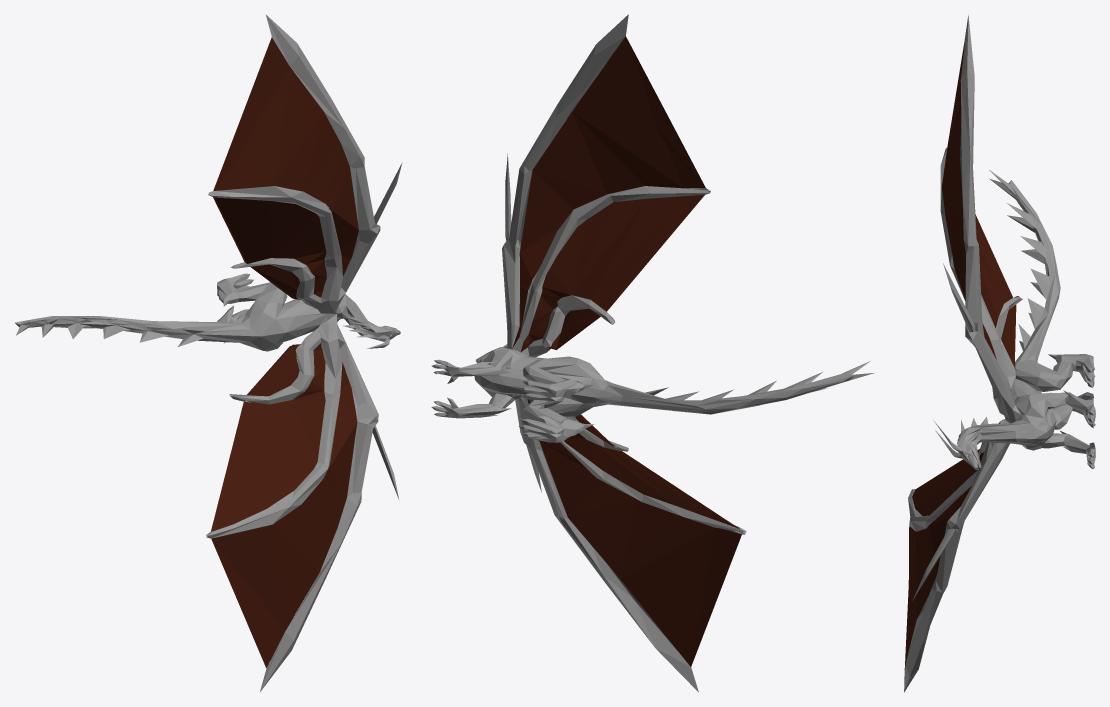
Rendered from Dragon_2.5_For_Animations_000479.obj.
3 views of the same model, side by side, from view 1: azimuth 30°, elevation 25°; view 2: azimuth 150°, elevation 25°; view 3: azimuth 270°, elevation 25° (orthographic). The views are drawn at different scales.
Visible parts, largest first — view 1: Cube_Cube.004; view 2: Cube_Cube.004; view 3: Cube_Cube.004.
Part boxes in pixels (box(x1,y1,x2,y2)): Cube_Cube.004: box(15, 14, 402, 691); Cube_Cube.004: box(431, 14, 874, 692); Cube_Cube.004: box(904, 14, 1095, 692).
Bounding box in the file's own units: 92.5 × 151 × 37.67.
